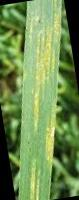Wheat: (29, 26, 58, 134), (22, 155, 43, 200)
